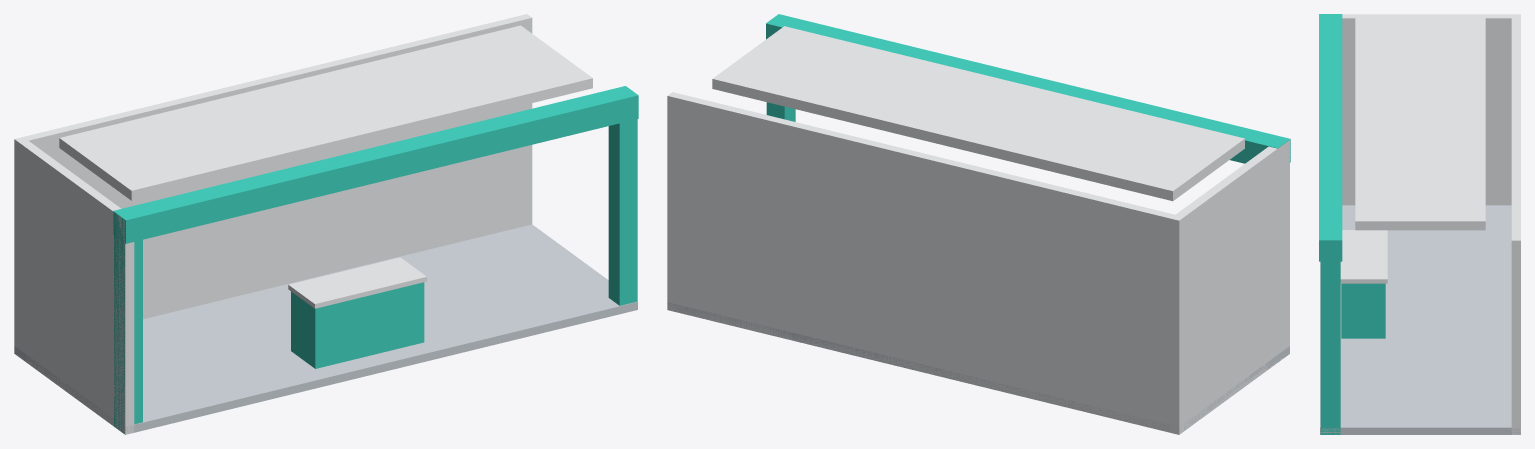
3 renders of one model, left to right at view 1: azimuth 30°, elevation 25°; view 2: azimuth 150°, elevation 25°; view 3: azimuth 270°, elevation 25°, orthographic. The views are drawn at different scales.
Visible parts, largest first — view 1: Exhibition Booth Concept; view 2: Exhibition Booth Concept; view 3: Exhibition Booth Concept.
Part boxes in pixels (x1=…): Exhibition Booth Concept: x1=14, y1=14, x2=638, y2=434; Exhibition Booth Concept: x1=667, y1=14, x2=1290, y2=434; Exhibition Booth Concept: x1=1319, y1=14, x2=1520, y2=434.
Bounding box in the file's own units: 8 × 3.34 × 3.01.
